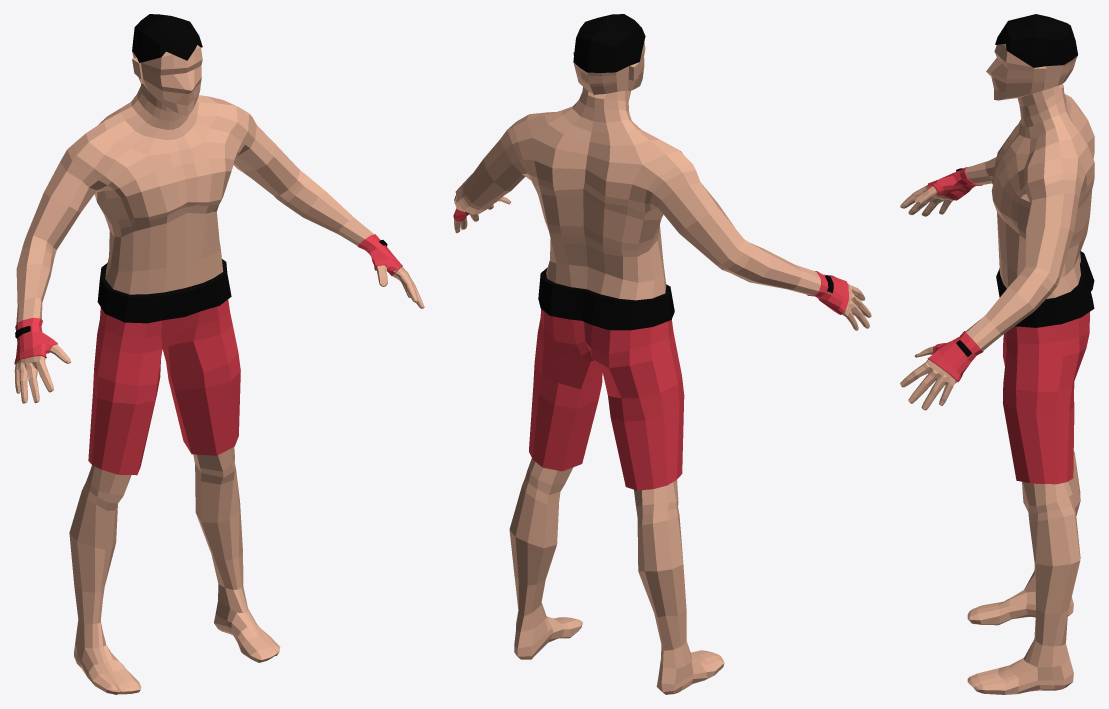
File: Fighter.glb
3 renders of one model, left to right at view 1: azimuth 30°, elevation 25°; view 2: azimuth 150°, elevation 25°; view 3: azimuth 270°, elevation 25°, orthographic.
Visible parts, largest first — view 1: fighter_03.001; view 2: fighter_03.001; view 3: fighter_03.001.
Part boxes in pixels (x1,y1,x2,y2): fighter_03.001: [14, 14, 424, 694]; fighter_03.001: [453, 14, 871, 694]; fighter_03.001: [900, 14, 1094, 694].
Bounding box in the file's own units: 2.83 × 4.32 × 1.19.
